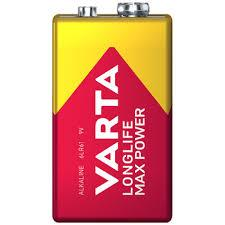9V Battery: (52, 2, 172, 224)
